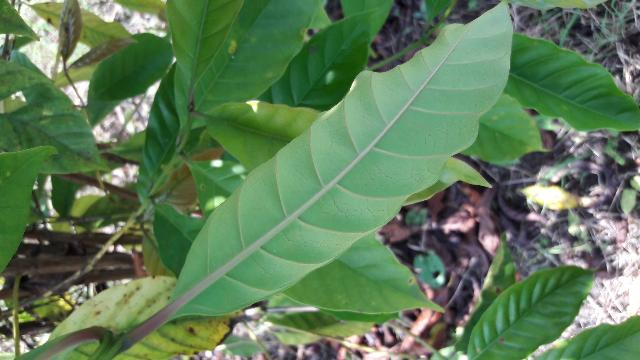healthy: (168, 1, 508, 318)
